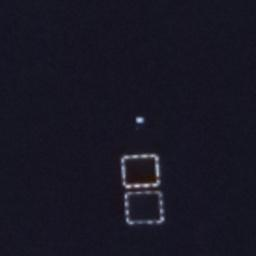square_solid: (118, 151, 165, 191), (122, 186, 167, 227)
